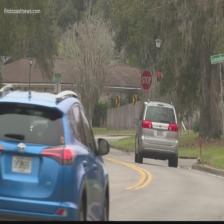Stop-sign: (139, 64, 154, 94)
